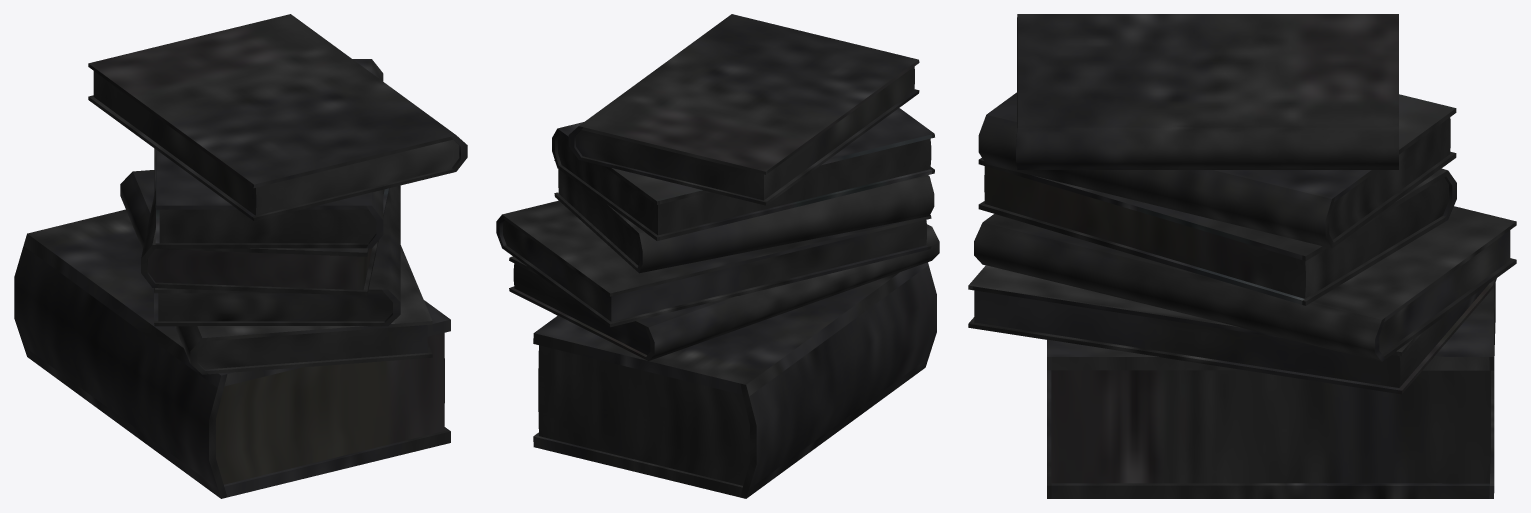
File: SM_Books_06.fbx
The picture shows the model from 3 angles, left to right: view 1: azimuth 30°, elevation 25°; view 2: azimuth 150°, elevation 25°; view 3: azimuth 270°, elevation 25°; orthographic projection. The views are drawn at different scales.
Visible parts, largest first — view 1: SM_Books_06; view 2: SM_Books_06; view 3: SM_Books_06.
Part boxes in pixels (x1=…): SM_Books_06: x1=14, y1=14, x2=467, y2=498; SM_Books_06: x1=496, y1=14, x2=939, y2=498; SM_Books_06: x1=968, y1=14, x2=1516, y2=498.
Size of the model in its own units: 28.93 by 32.54 by 24.04.
1 material, 1 textured.
